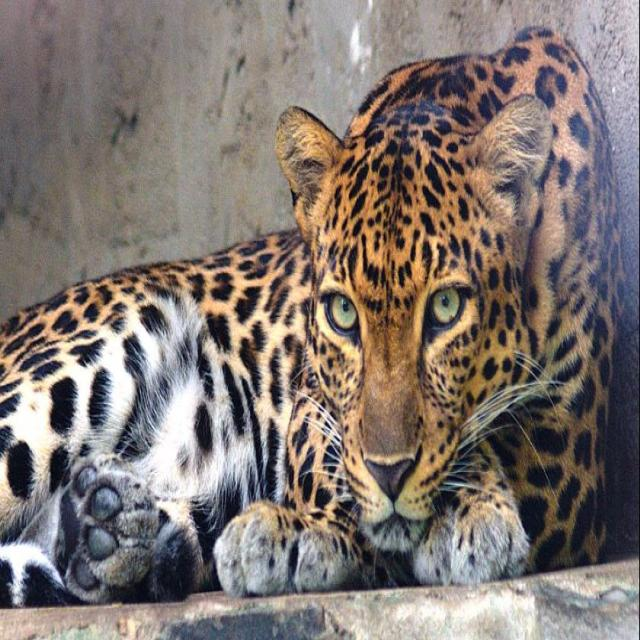Leopard: (2, 12, 612, 577)
